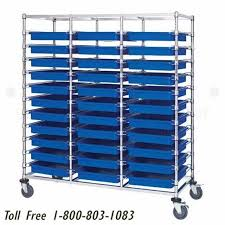Carts: (19, 10, 203, 220)
